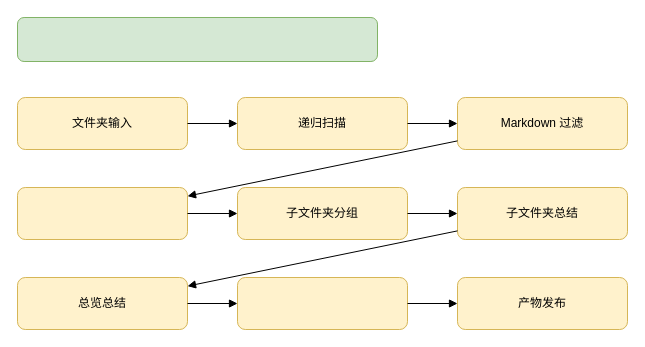
This 645x347 diagram has some shape labels left out. Each missing label, with the box of its shape:
Markdown 解析: (16, 186, 188, 240)
V4.2-C Controlled Runtime Status: (16, 16, 378, 62)
质量检查: (236, 276, 408, 330)
